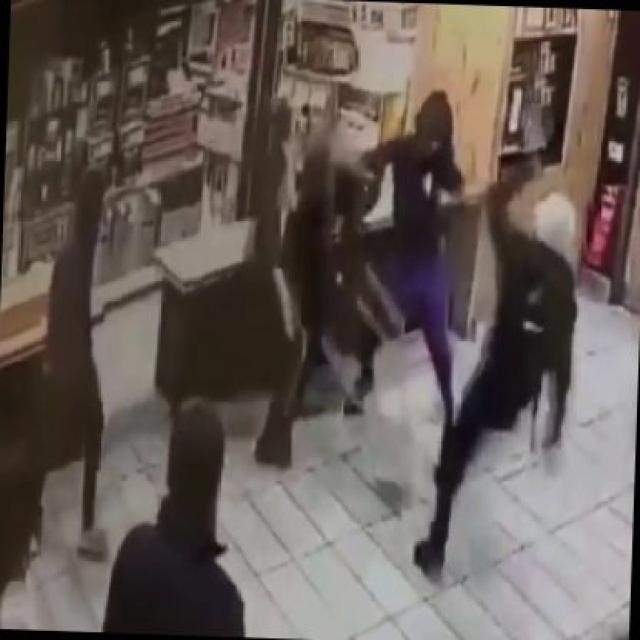fight: (275, 85, 584, 578)
